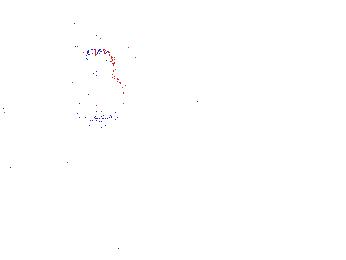flame jellyfish: (69, 47, 125, 130), (31, 144, 97, 212), (83, 164, 144, 215)
